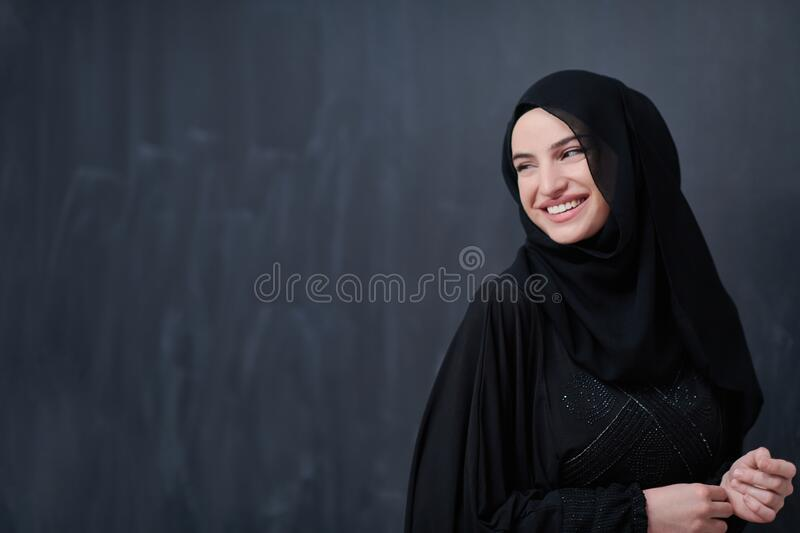No Mask: (499, 80, 699, 324)
